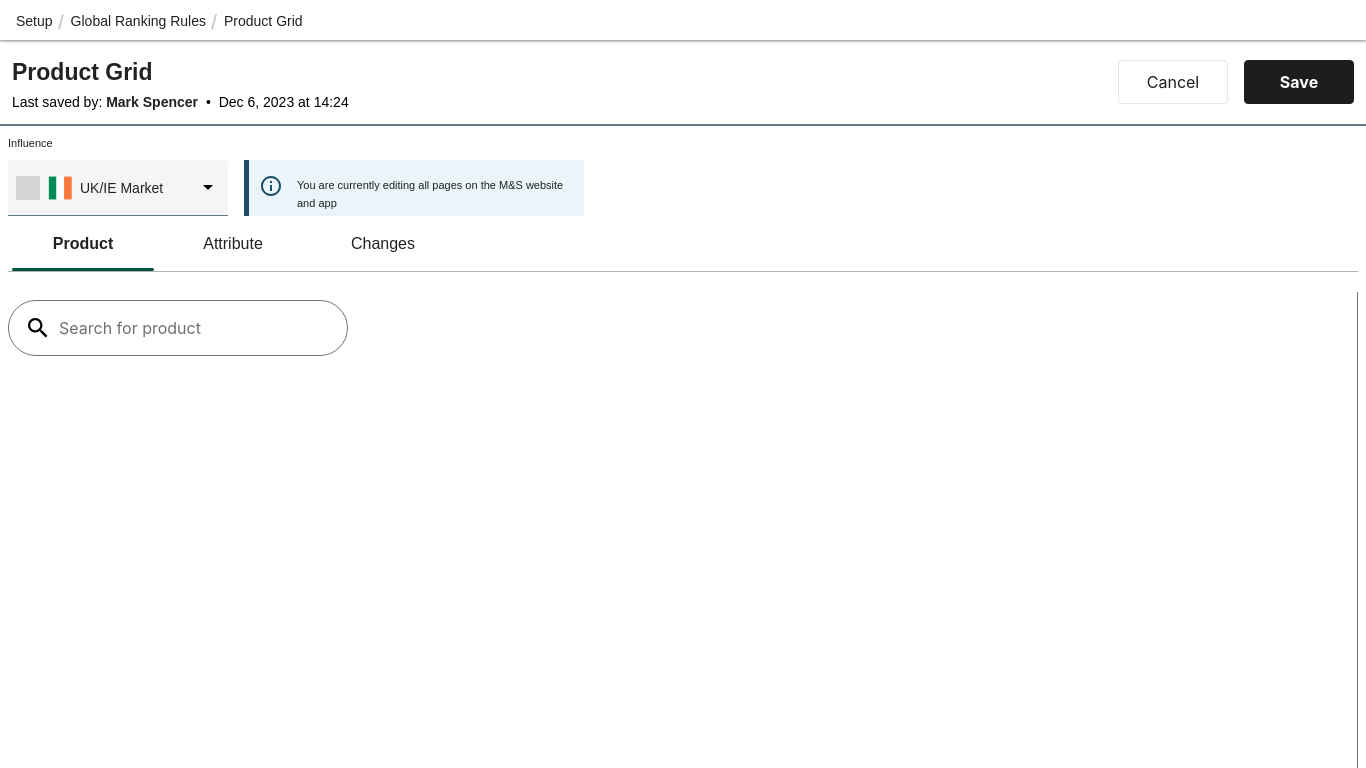
Test: Index › Optimistic locking conflict › dismisses the conflict modal without saving
Click the button "Save" at (1299, 82), box x1=1244 y1=60 x2=1354 y2=104
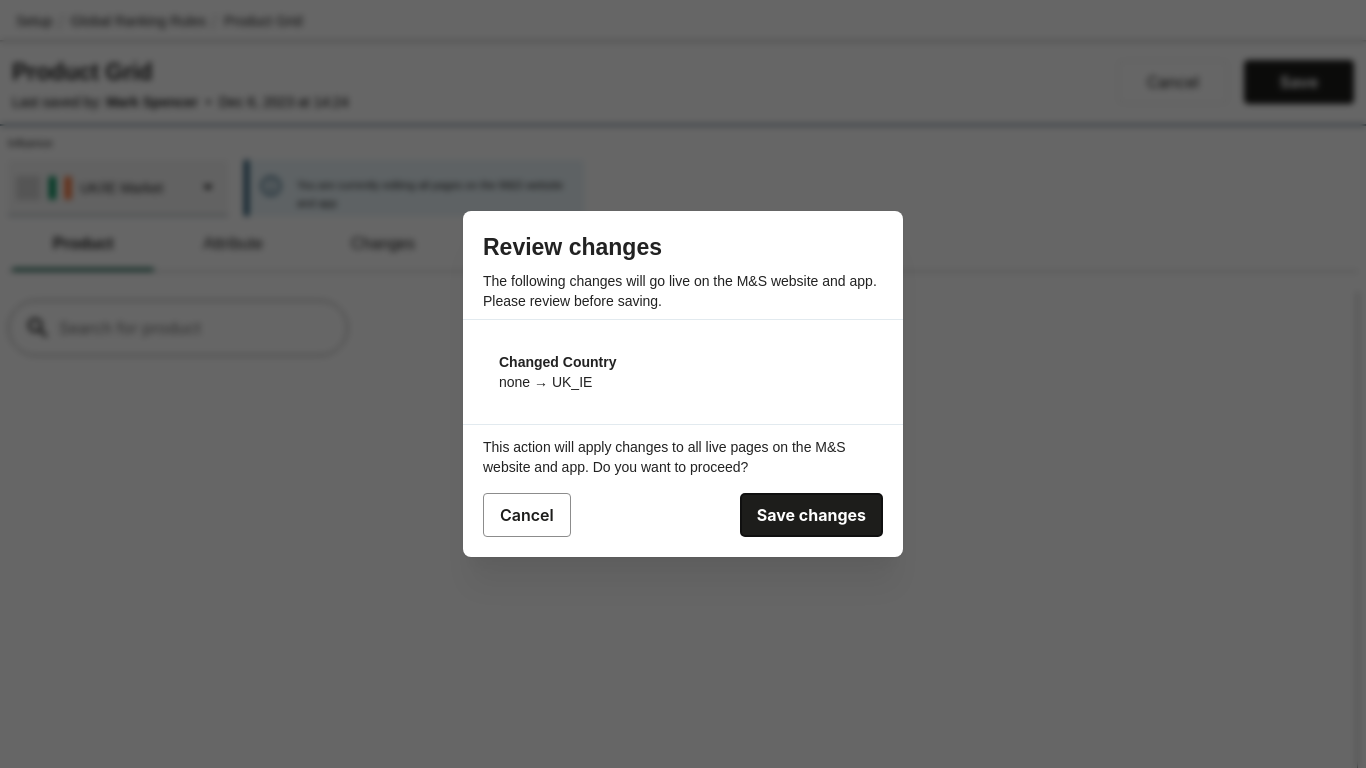
Click the button "Save changes" at (811, 515), box x1=740 y1=493 x2=883 y2=537
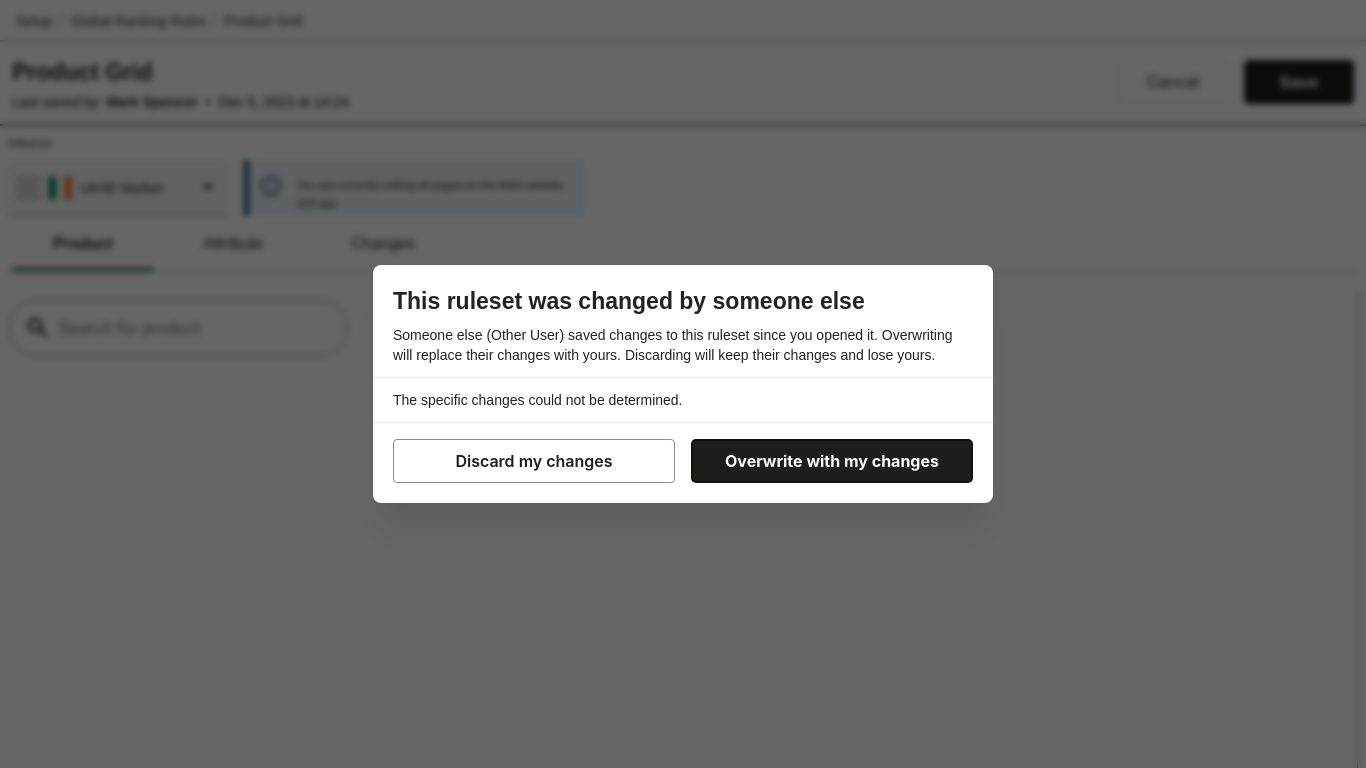
Expected: the dialog "This ruleset was changed by someone else" is shown, x1=373 y1=265 x2=993 y2=503
Press Escape
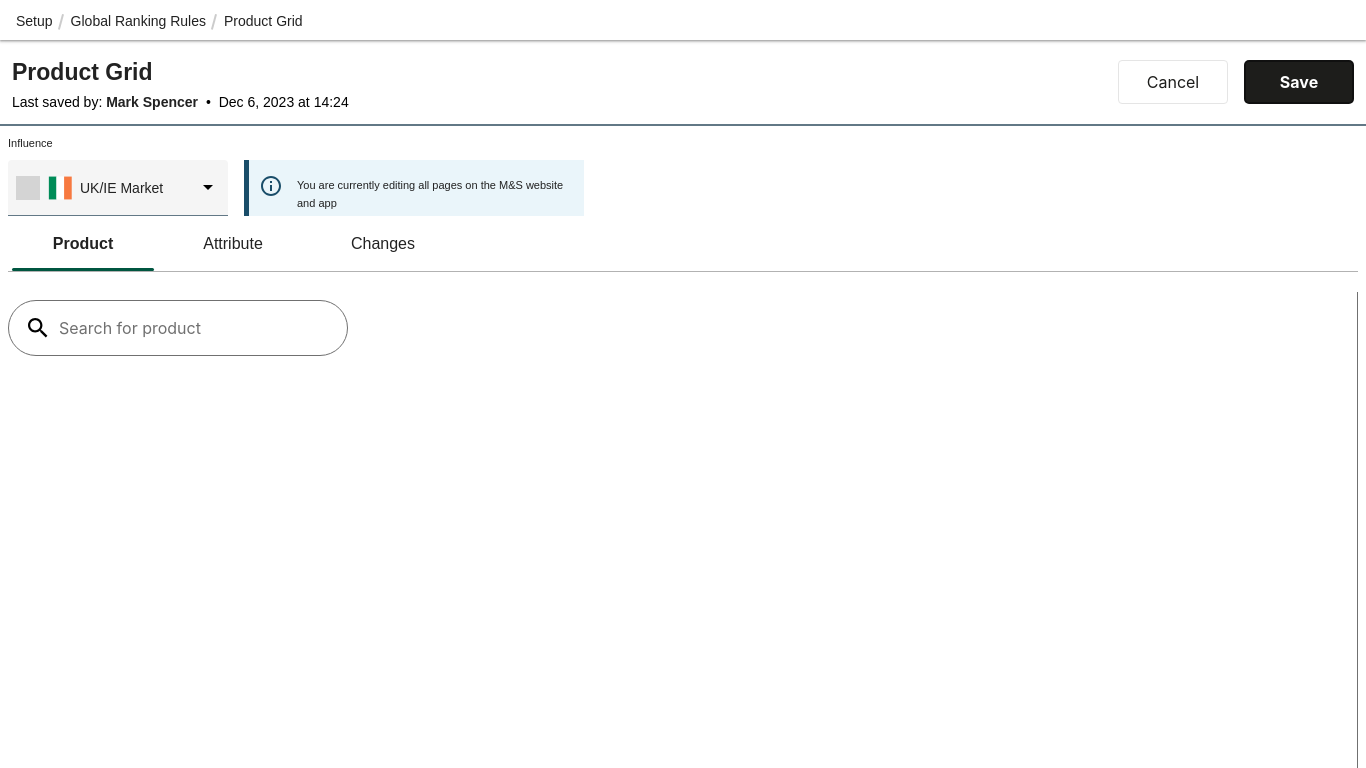
Expected: the heading "This ruleset was changed by someone else" is gone
